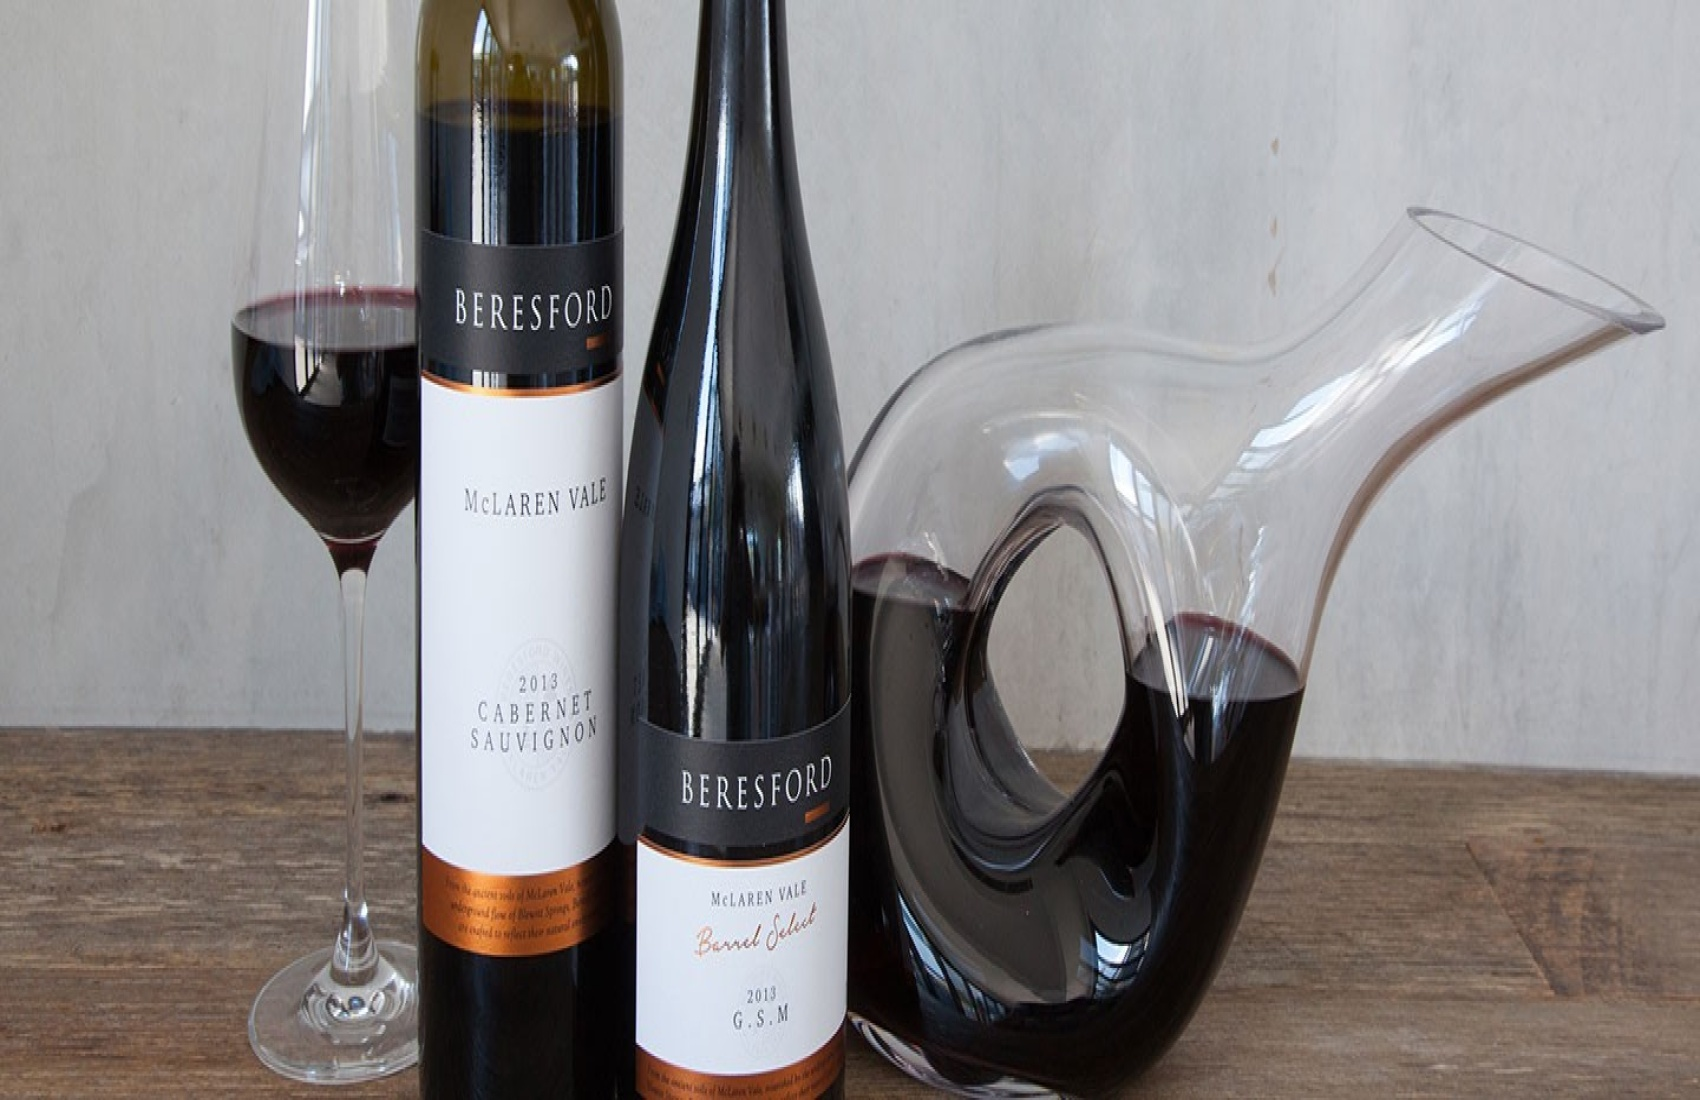wine: (634, 12, 862, 1081), (406, 12, 626, 1096)
